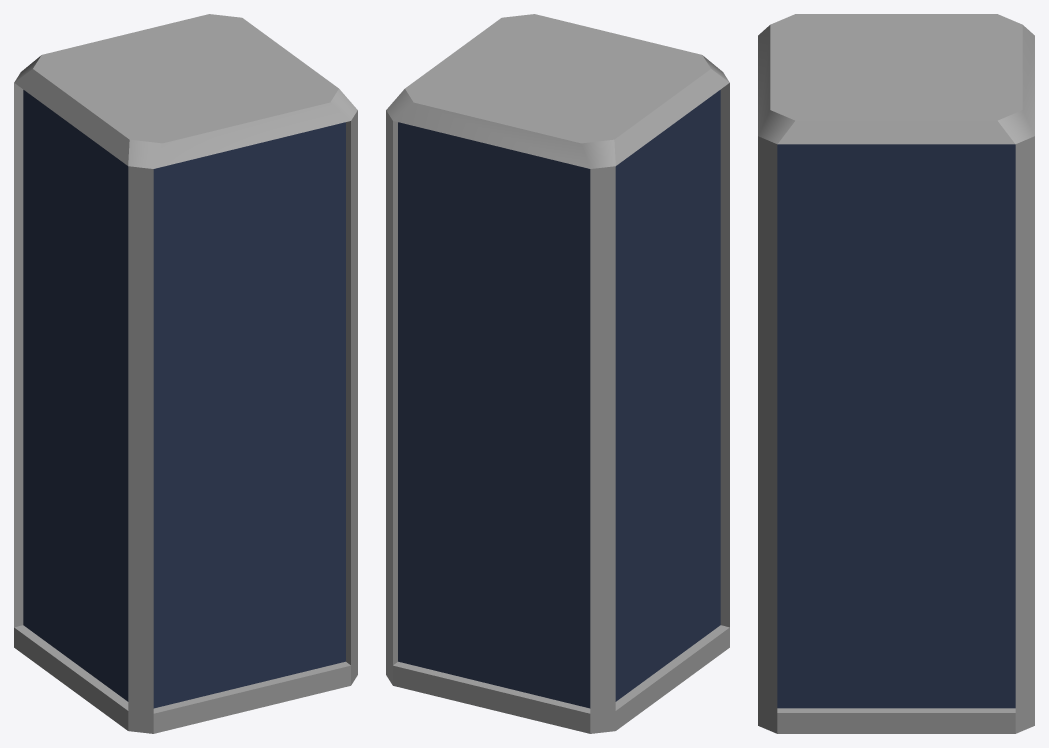
The model's file is Lantern03.fbx.
3 views of the same model, side by side, from view 1: azimuth 30°, elevation 25°; view 2: azimuth 150°, elevation 25°; view 3: azimuth 270°, elevation 25° (orthographic). The views are drawn at different scales.
Visible parts, largest first — view 1: Lantern03_GEO; view 2: Lantern03_GEO; view 3: Lantern03_GEO.
Part boxes in pixels (x1,y1,x2,y2): Lantern03_GEO: (14,14,357,733); Lantern03_GEO: (386,14,729,733); Lantern03_GEO: (758,14,1034,733).
Bounding box in the file's own units: 51.19 × 124 × 51.19.
